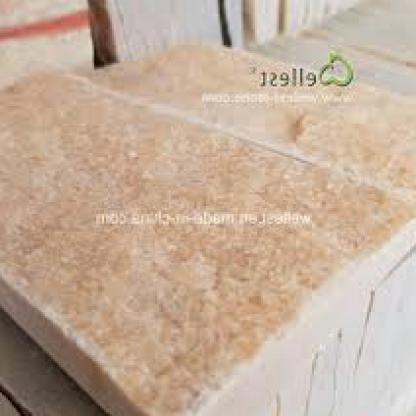Metamorphic_Quartize: (2, 63, 415, 415)
